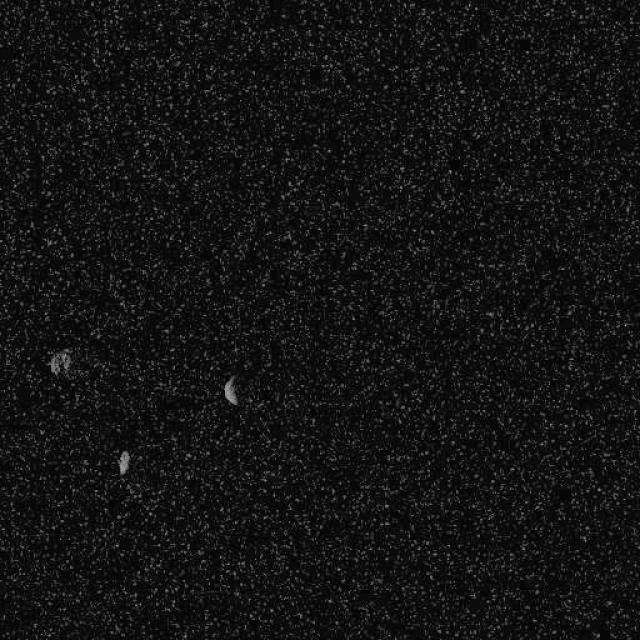D2: (48, 348, 72, 378), (222, 374, 238, 406), (116, 449, 130, 475)
